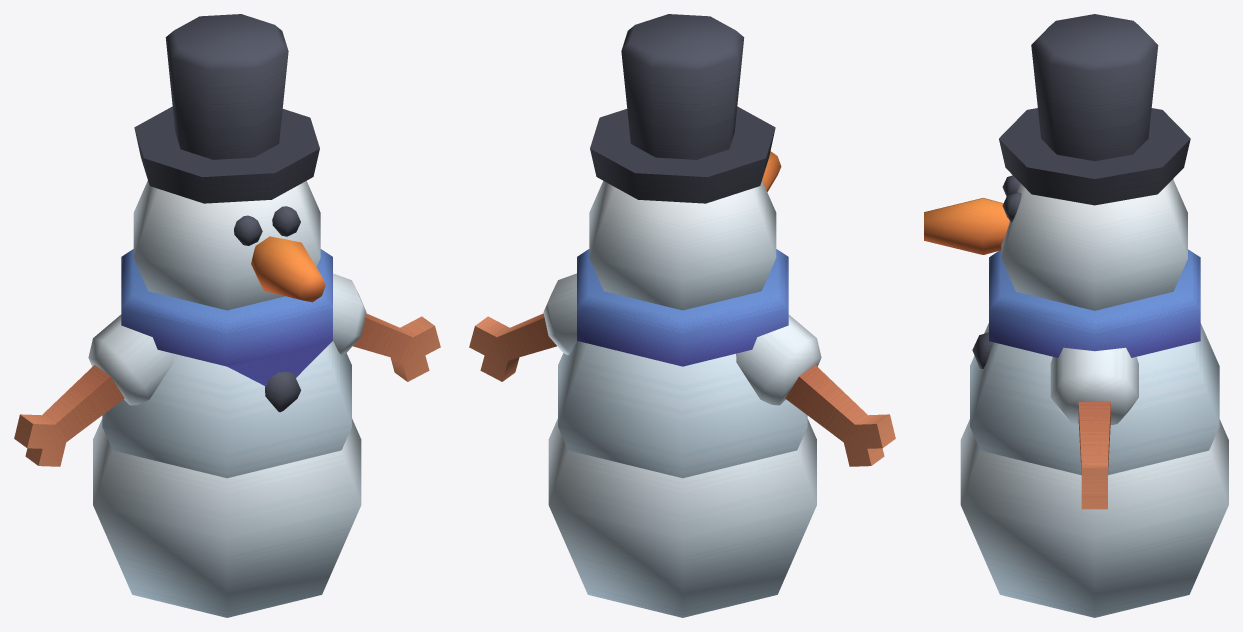
Rendered from snowman-hat.glb.
3 views of the same model, side by side, from view 1: azimuth 30°, elevation 25°; view 2: azimuth 150°, elevation 25°; view 3: azimuth 270°, elevation 25° (orthographic).
Visible parts, largest first — view 1: snowman-hat; view 2: snowman-hat; view 3: snowman-hat.
Boxes of the visible parts, box(x1,y1,x2,y2) form: snowman-hat: box(14, 14, 440, 617); snowman-hat: box(469, 14, 895, 617); snowman-hat: box(924, 14, 1228, 617).
Size of the model in its own units: 3.23 by 4.09 by 2.06.
1 material, 1 textured.
